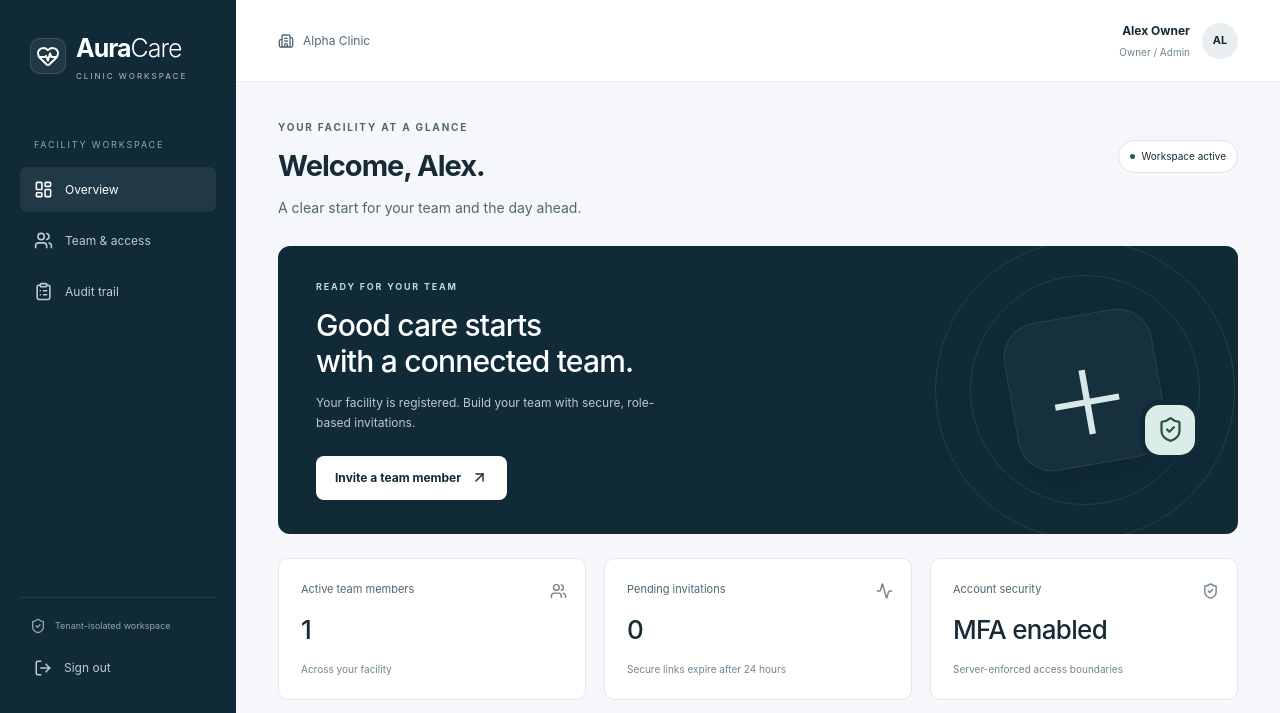
Test: Phase 1 accessible user journeys › renders Screen 07, submits invitations and displays pending activation
Click the button "Team & access". click: click(118, 240)
box: [20,218,216,263]
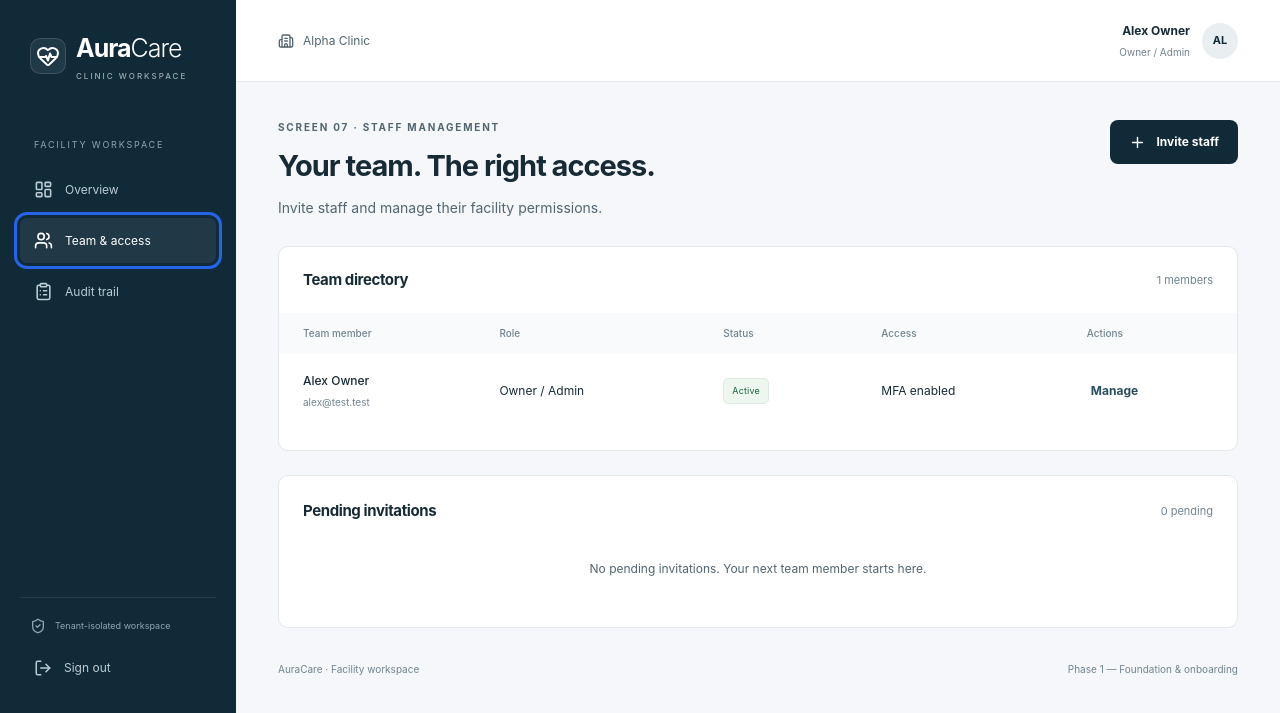
Check: the text "SCREEN 07 · STAFF MANAGEMENT" is shown, box [278,121,500,133]
Check: the text "alex@test.test" is shown, box [303,396,370,408]
Click the button "Invite staff". click: click(1174, 142)
box: [1110,120,1238,164]
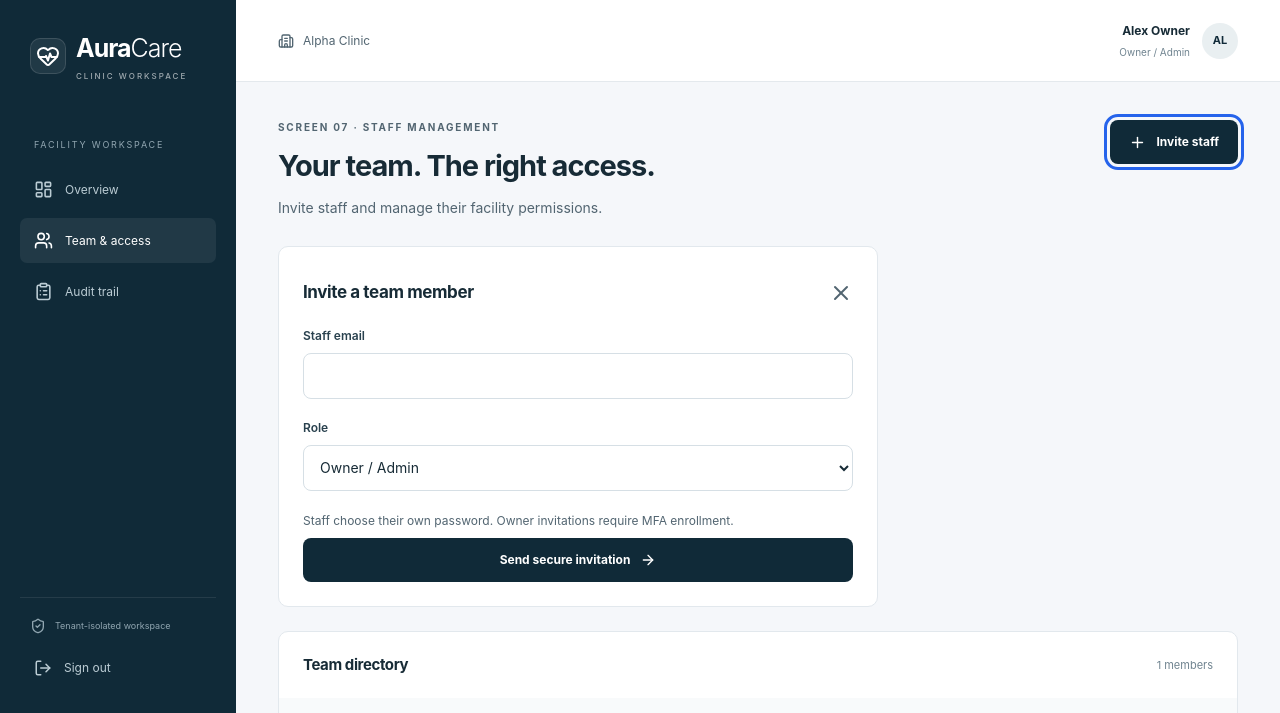
Type "doctor@test.test" into the field labelled "Staff email". click: (578, 376)
box: [303,353,853,399]
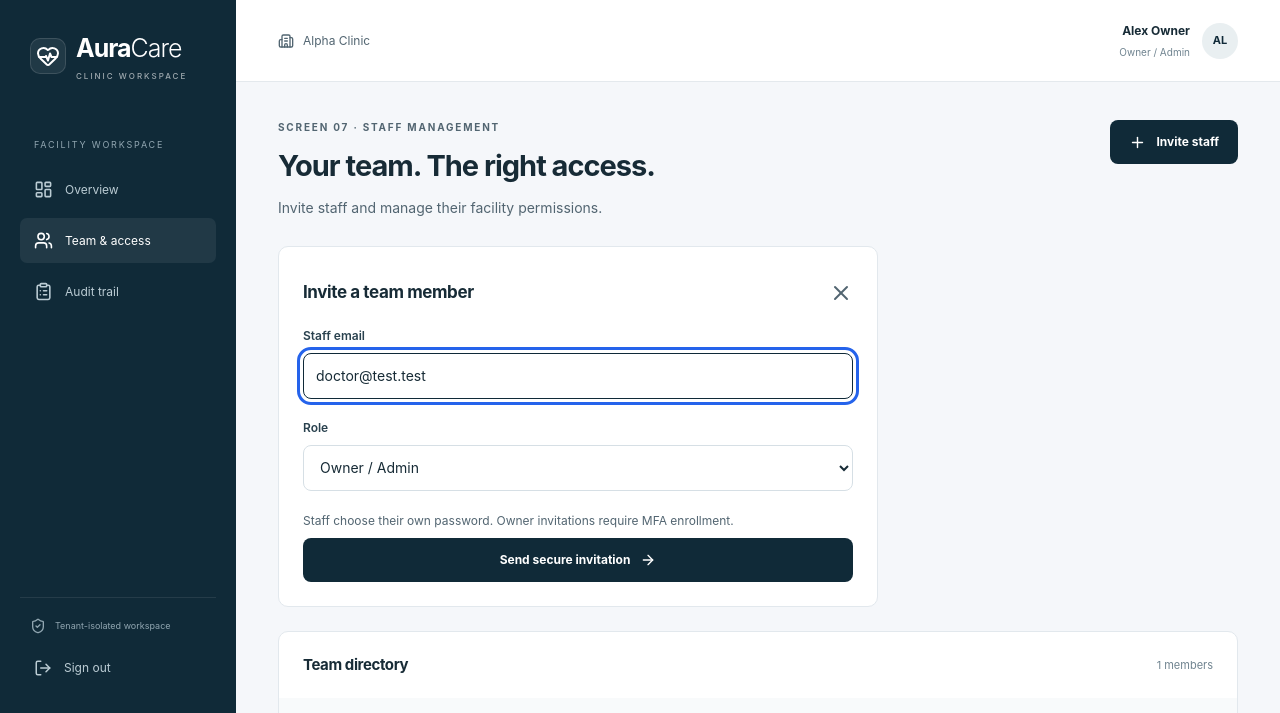
Select "Doctor" in the dropdown labelled "Role". click: (578, 468)
box: [303,445,853,491]
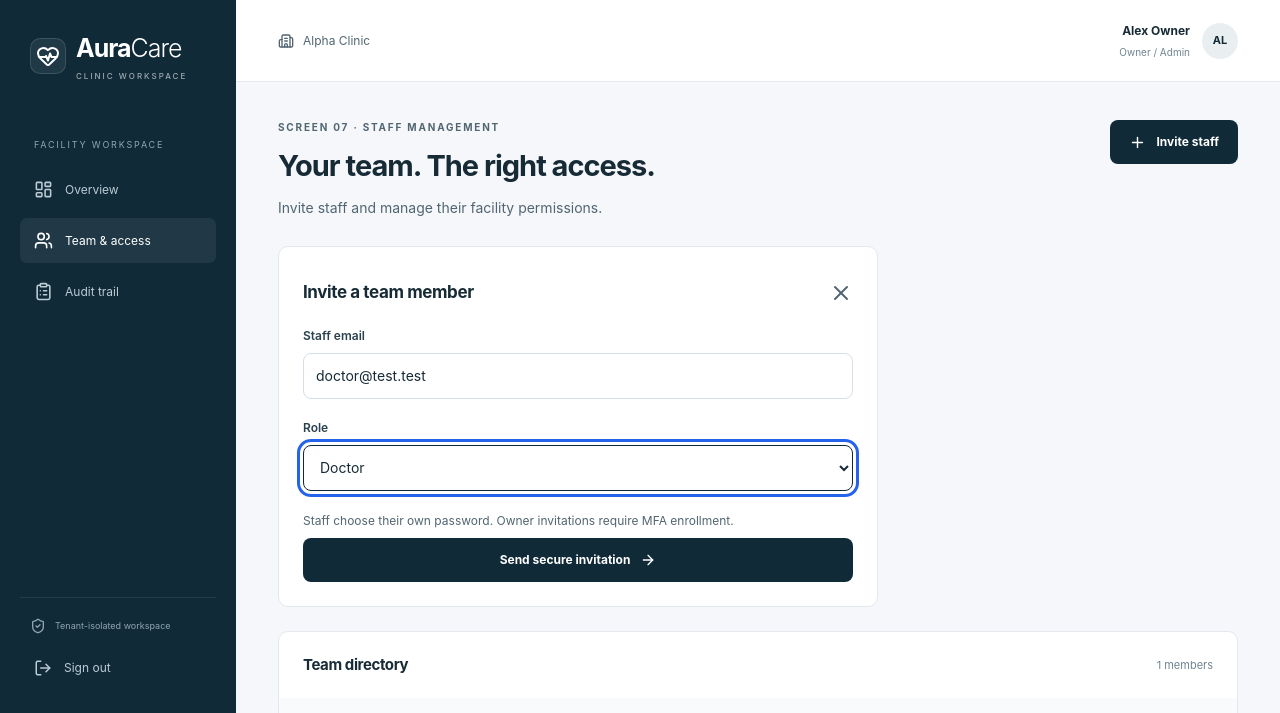
Click the button "Send secure invitation". click: click(578, 560)
box: [303,538,853,582]
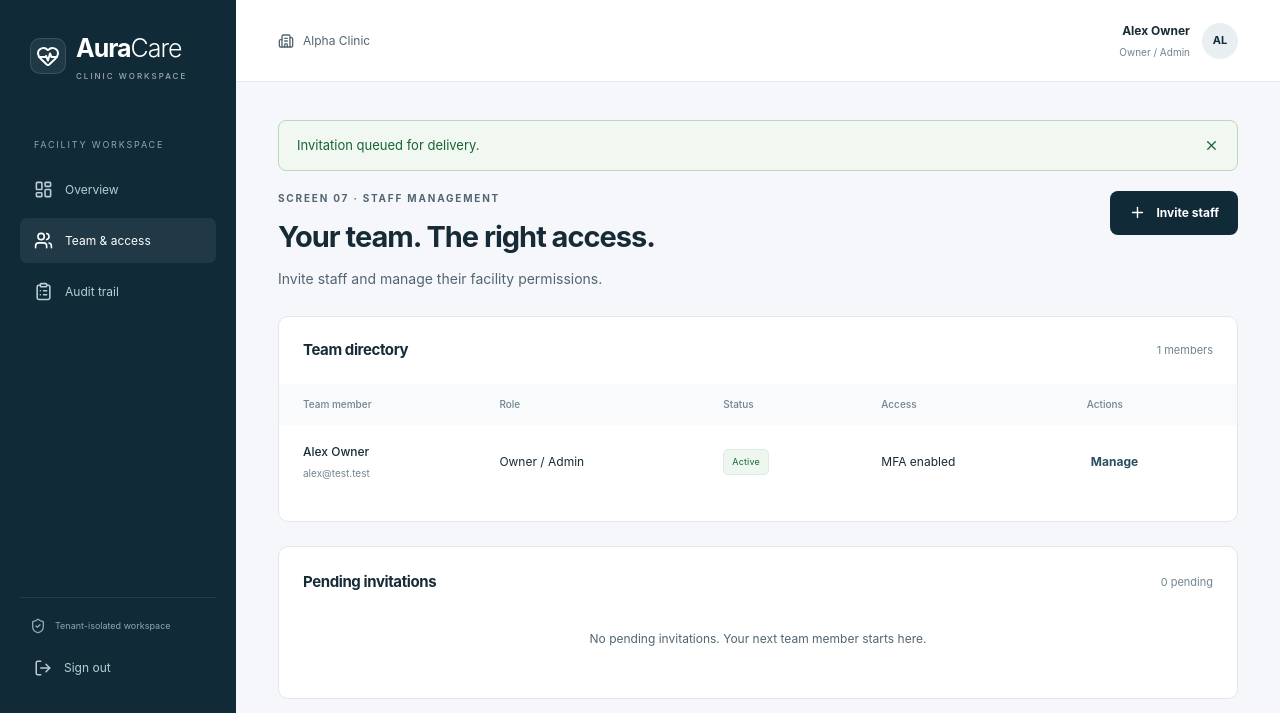
Check: the message reads "Invitation queued for delivery.", box [297,137,480,153]
